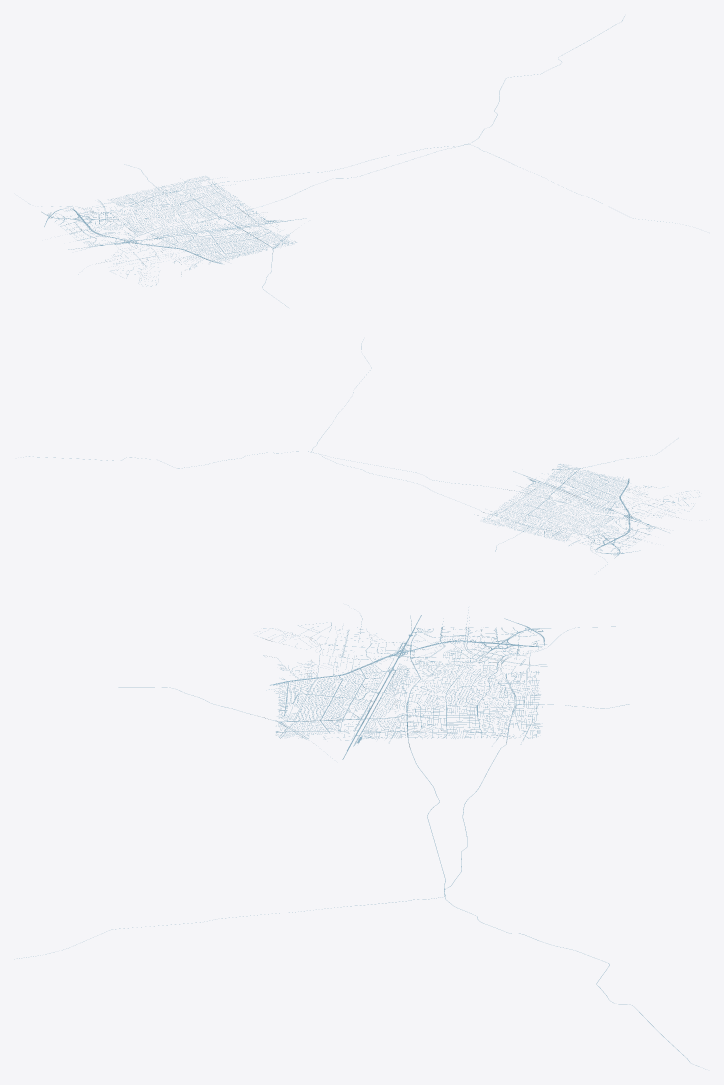
File: roads.glb
3 renders of one model, top to bottom at view 1: azimuth 30°, elevation 25°; view 2: azimuth 150°, elevation 25°; view 3: azimuth 270°, elevation 25°, orthographic. The views are drawn at different scales.
Parts seen in each view (by area): view 1: roads; view 2: roads; view 3: roads.
Boxes of the visible parts, left/top/right/bottom form: roads: left=28, top=16, right=686, bottom=307; roads: left=23, top=339, right=699, bottom=571; roads: left=14, top=605, right=705, bottom=1069.
Size of the model in its own units: 25761 by 47.17 by 16168.
